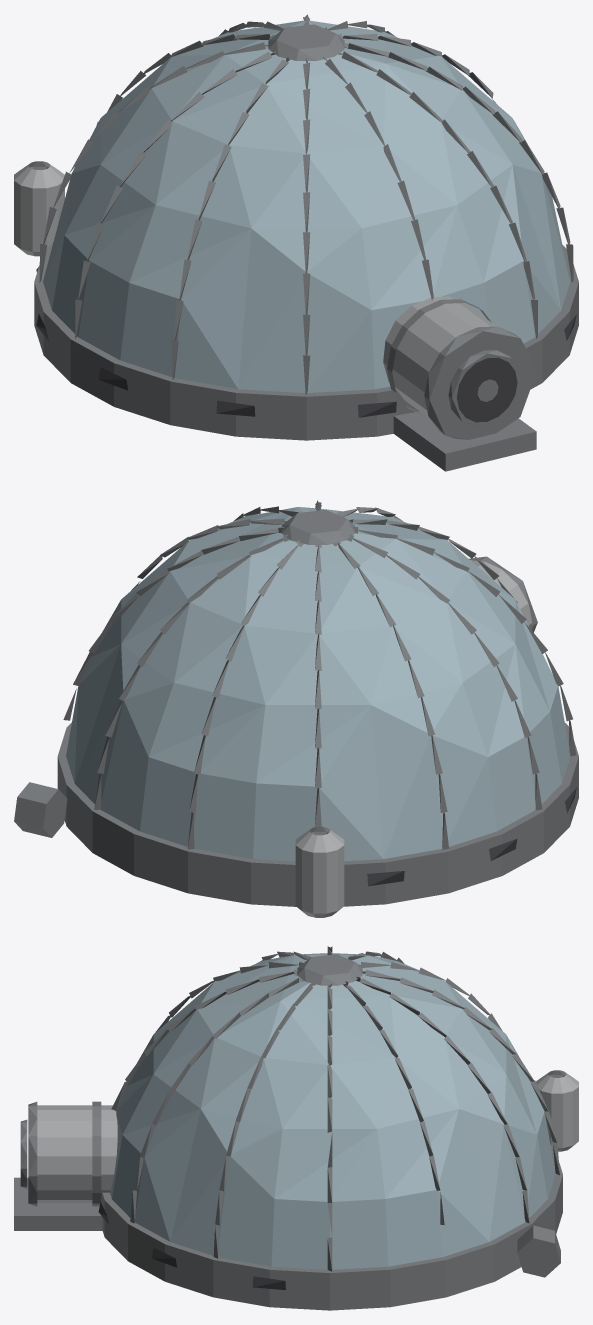
File: dome-glass-lod1.glb
3 renders of one model, top to bottom at view 1: azimuth 30°, elevation 25°; view 2: azimuth 150°, elevation 25°; view 3: azimuth 270°, elevation 25°, orthographic. The views are drawn at different scales.
Size of the model in its own units: 12.4 by 7.25 by 15.02.
